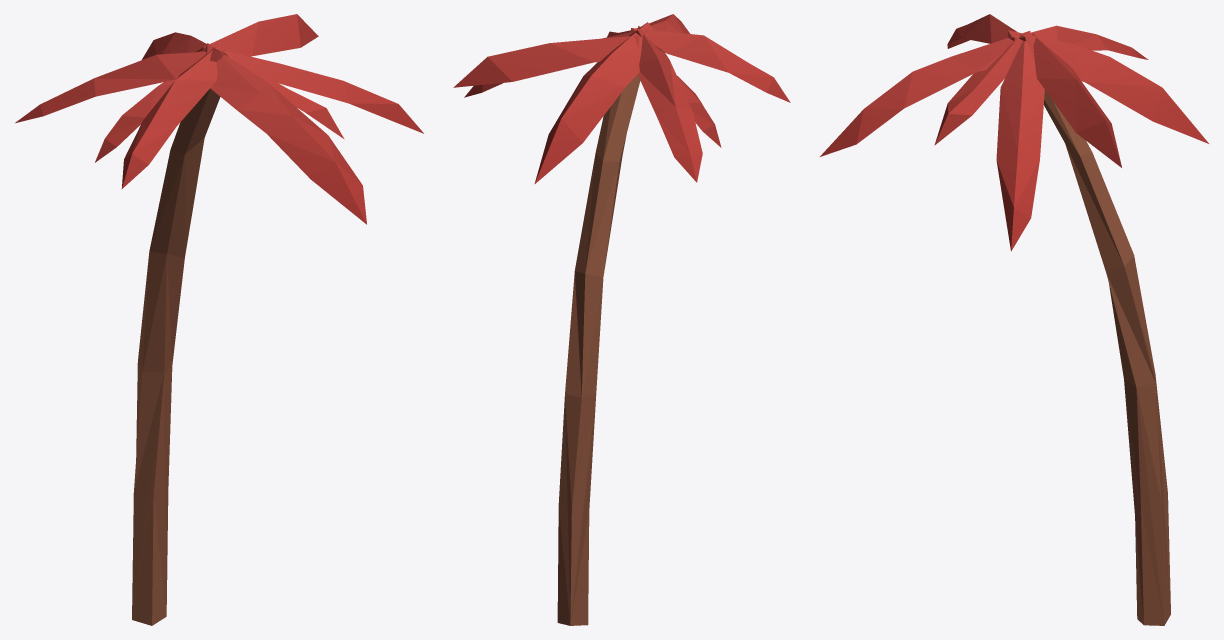
The model's file is Tree_09_gradient_red.fbx.
3 views of the same model, side by side, from view 1: azimuth 30°, elevation 25°; view 2: azimuth 150°, elevation 25°; view 3: azimuth 270°, elevation 25° (orthographic). The views are drawn at different scales.
Parts seen in each view (by area): view 1: Tree_09_gradient_red; view 2: Tree_09_gradient_red; view 3: Tree_09_gradient_red.
Part boxes in pixels (x1=…): Tree_09_gradient_red: x1=15, y1=14, x2=423, y2=625; Tree_09_gradient_red: x1=453, y1=14, x2=790, y2=625; Tree_09_gradient_red: x1=820, y1=14, x2=1208, y2=625.
Bounding box in the file's own units: 128 × 228 × 137.
